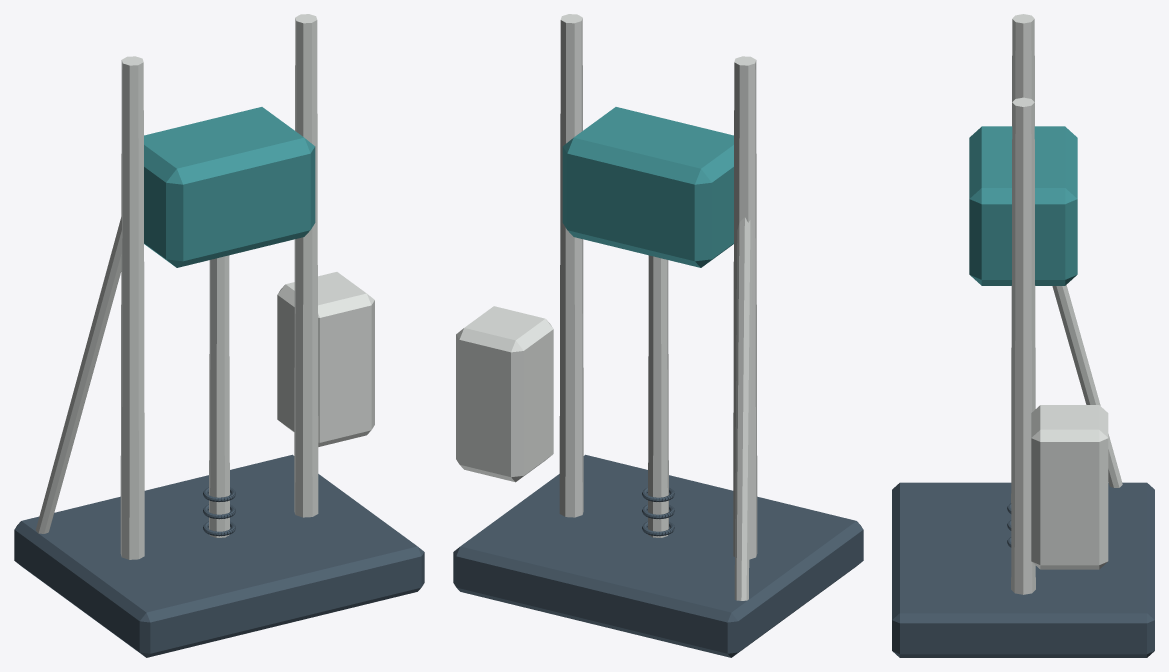
3 views of the same model, side by side, from view 1: azimuth 30°, elevation 25°; view 2: azimuth 150°, elevation 25°; view 3: azimuth 270°, elevation 25° (orthographic).
Visible parts, largest first — view 1: ME-041 Surface core extraction guide rig batched; view 2: ME-041 Surface core extraction guide rig batched; view 3: ME-041 Surface core extraction guide rig batched.
Part boxes in pixels (x1,y1,x2,y2): ME-041 Surface core extraction guide rig batched: [14, 14, 424, 657]; ME-041 Surface core extraction guide rig batched: [453, 14, 863, 657]; ME-041 Surface core extraction guide rig batched: [892, 14, 1154, 657].
Size of the model in its own units: 1.13 by 1.9 by 0.85.
